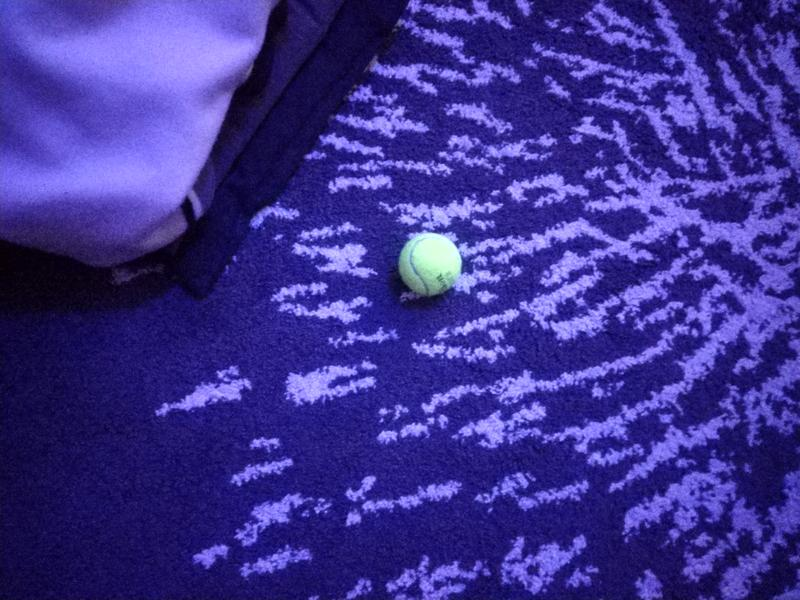Tennisball: (395, 228, 464, 301)
